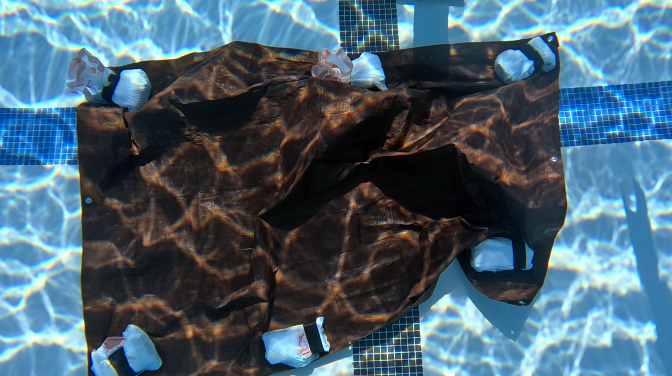sandbag: (65, 33, 568, 375)
